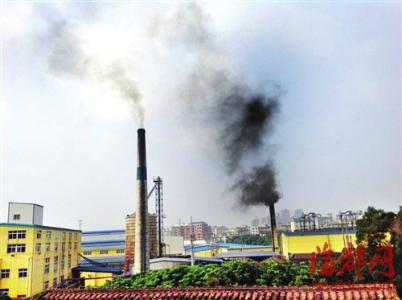smoke: (200, 84, 281, 206)
